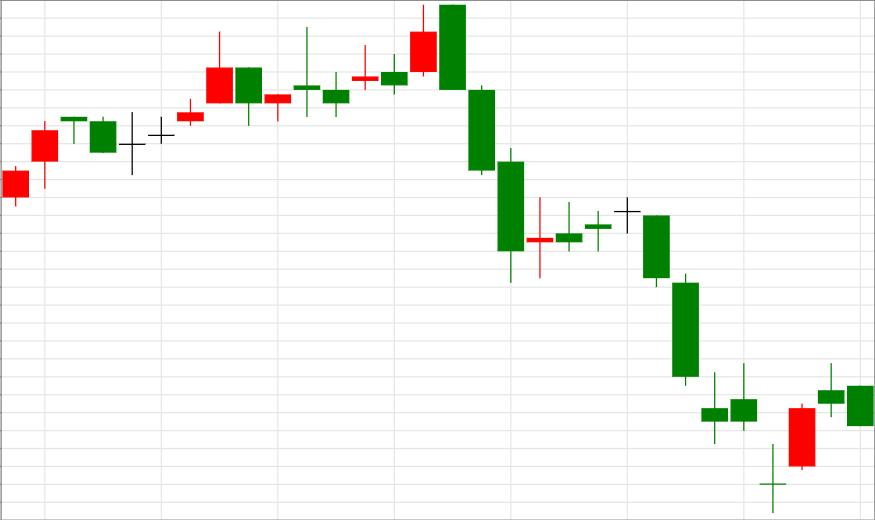morning_star_rise: (613, 198, 815, 513)
three_black_crows_fall: (323, 4, 523, 283)
